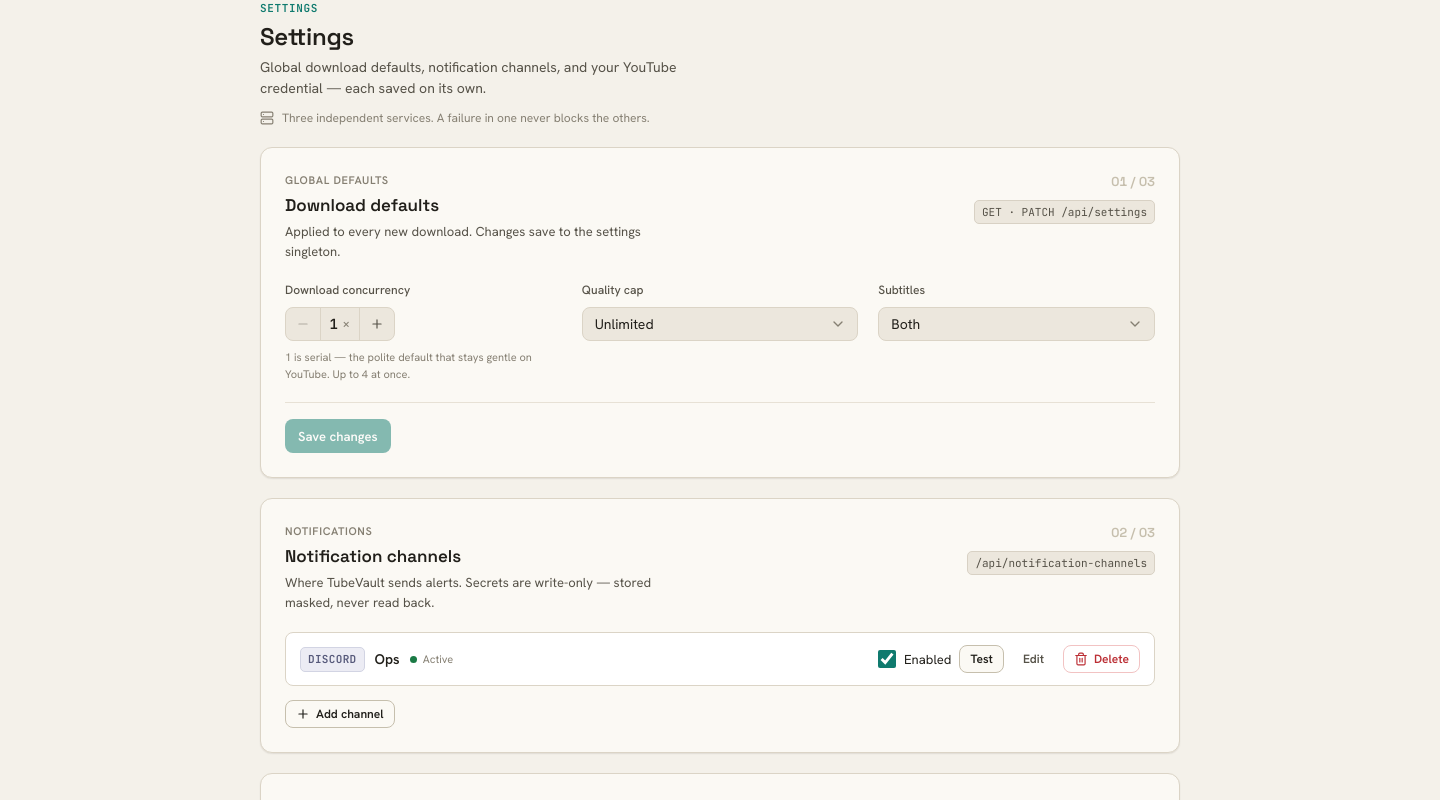
SettingsPage — confirm + cross-link › deletes a channel only after the confirm dialog is accepted
Check: the text "Ops" is shown, box left=374, top=649, right=400, bottom=670
Click the button "Delete".
click(1102, 659)  # box left=1063, top=645, right=1140, bottom=673
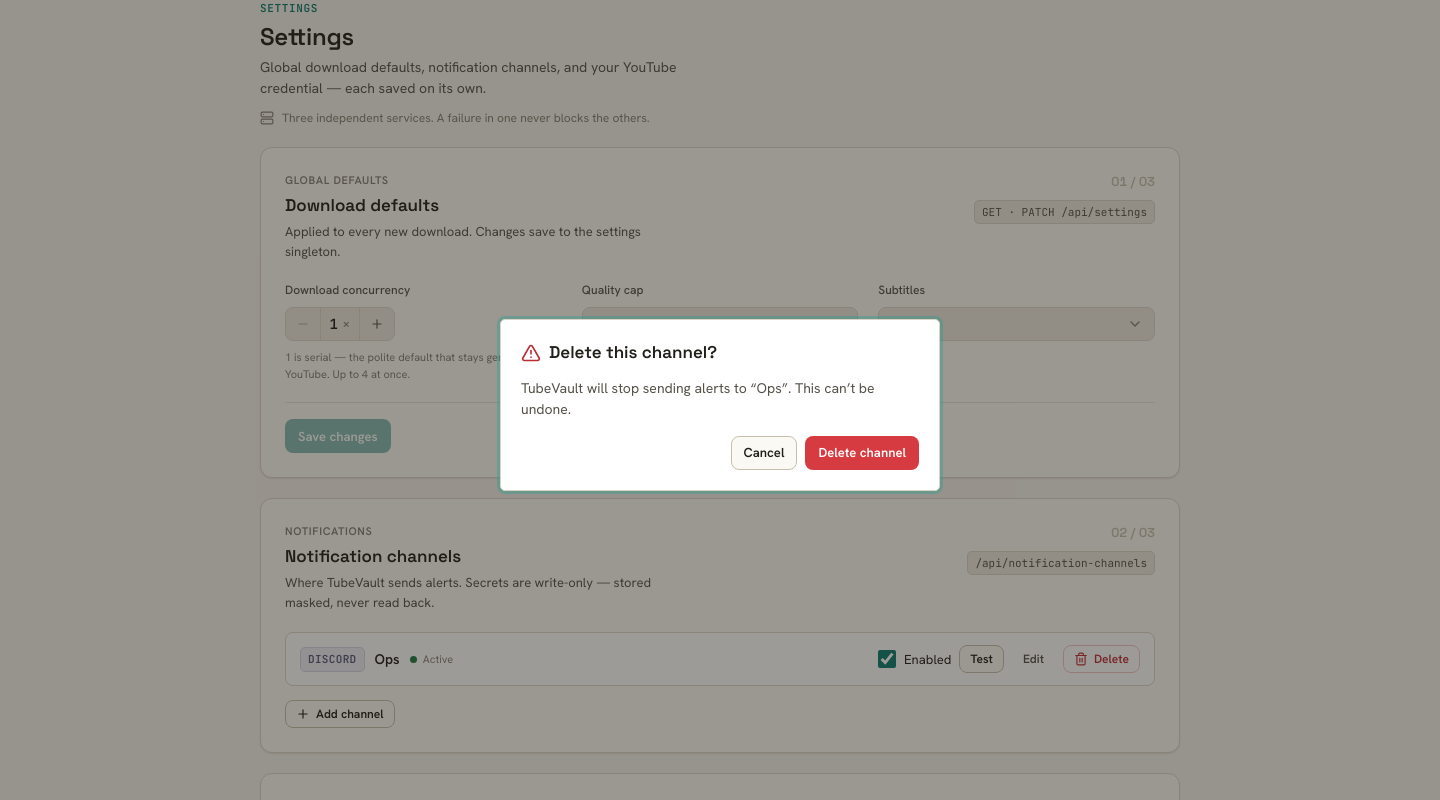
Check: the heading "Delete this channel?" is shown, box left=549, top=340, right=717, bottom=366
Click the button "Delete channel".
click(862, 453)  # box left=805, top=436, right=919, bottom=470
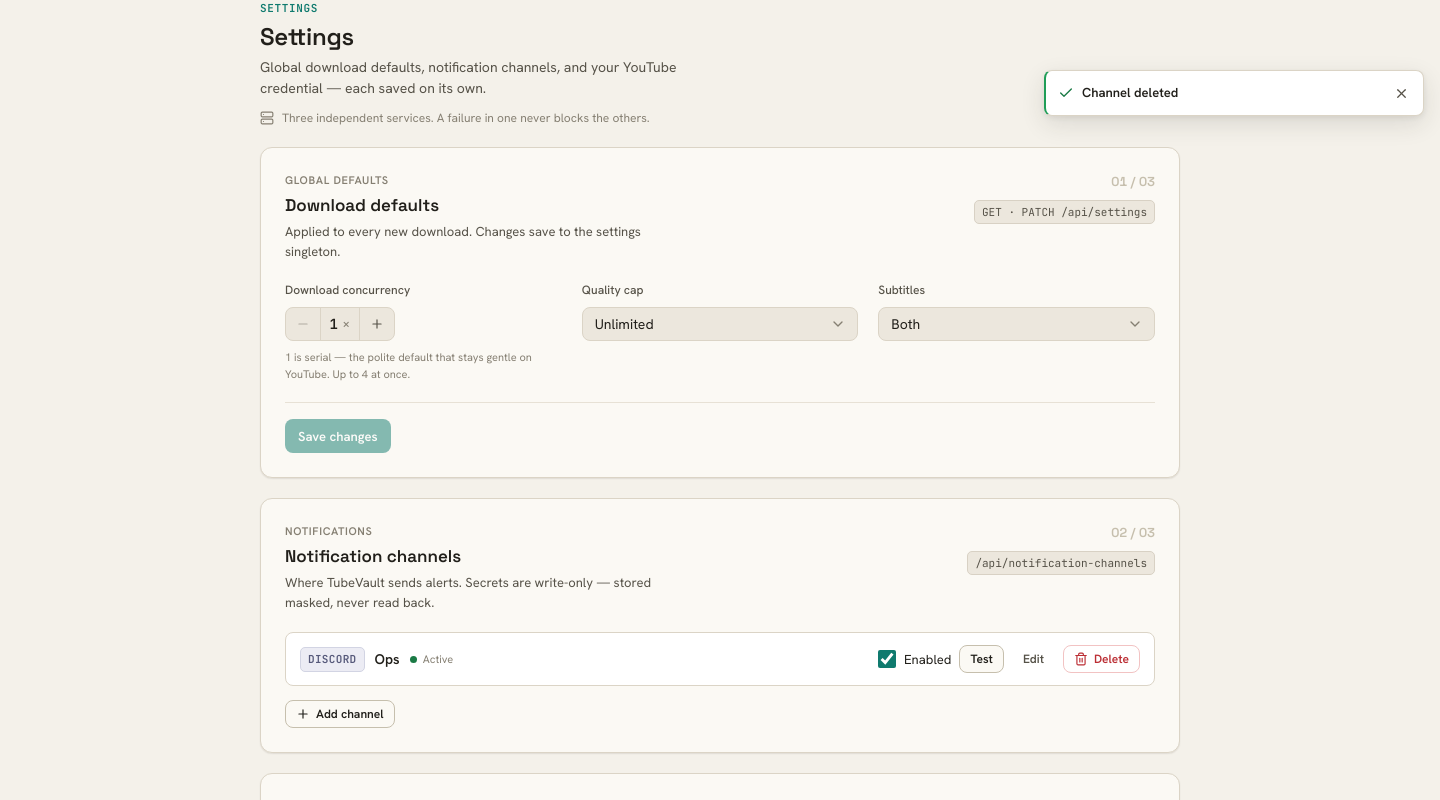
Check: the text "Channel deleted" is shown, box left=1082, top=84, right=1178, bottom=101
